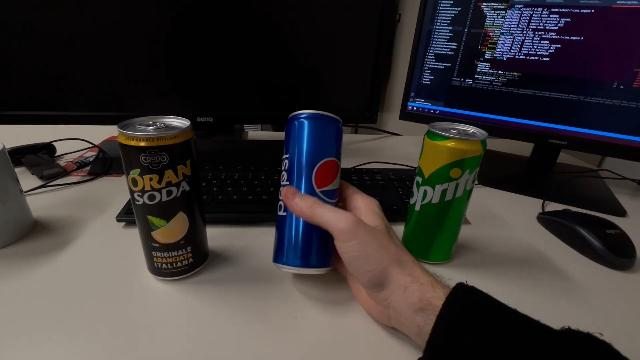OranSoda: (115, 114, 212, 283)
Pepsi: (272, 109, 346, 277)
Sprite: (400, 118, 488, 268)
